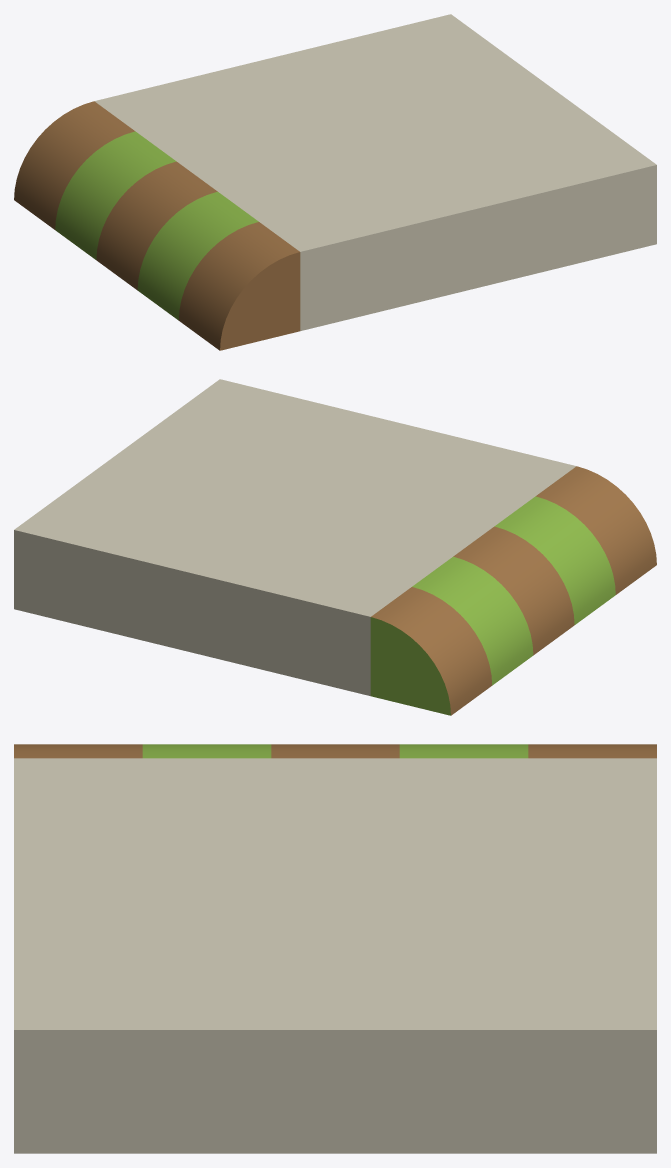
File: modularBuildings_010.fbx
3 renders of one model, top to bottom at view 1: azimuth 30°, elevation 25°; view 2: azimuth 150°, elevation 25°; view 3: azimuth 270°, elevation 25°, orthographic. The views are drawn at different scales.
Visible parts, largest first — view 1: Dark_brick.Dark_brick.Dark_brick, Wood.Wood.Wood.Wood.Wood.Wood.Wood.Wood.Wood.Wood.Mesh1 Grou, Green.Green.Green.Green.Green.Green.Green.Green.Green.Green; view 2: Dark_brick.Dark_brick.Dark_brick, Wood.Wood.Wood.Wood.Wood.Wood.Wood.Wood.Wood.Wood.Mesh1 Grou, Green.Green.Green.Green.Green.Green.Green.Green.Green.Green; view 3: Dark_brick.Dark_brick.Dark_brick, Wood.Wood.Wood.Wood.Wood.Wood.Wood.Wood.Wood.Wood.Mesh1 Grou, Green.Green.Green.Green.Green.Green.Green.Green.Green.Green.
Part boxes in pixels (x1,y1,x2,y2): Dark_brick.Dark_brick.Dark_brick: (94, 14, 656, 330); Wood.Wood.Wood.Wood.Wood.Wood.Wood.Wood.Wood.Wood.Mesh1 Grou: (14, 101, 300, 350); Green.Green.Green.Green.Green.Green.Green.Green.Green.Green: (55, 131, 258, 320); Dark_brick.Dark_brick.Dark_brick: (14, 379, 576, 695); Wood.Wood.Wood.Wood.Wood.Wood.Wood.Wood.Wood.Wood.Mesh1 Grou: (371, 466, 656, 715); Green.Green.Green.Green.Green.Green.Green.Green.Green.Green: (370, 496, 615, 715); Dark_brick.Dark_brick.Dark_brick: (14, 758, 656, 1153); Wood.Wood.Wood.Wood.Wood.Wood.Wood.Wood.Wood.Wood.Mesh1 Grou: (14, 744, 656, 758); Green.Green.Green.Green.Green.Green.Green.Green.Green.Green: (142, 744, 528, 758).
Bounding box in the file's own units: 1.22 × 0.2125 × 1.
